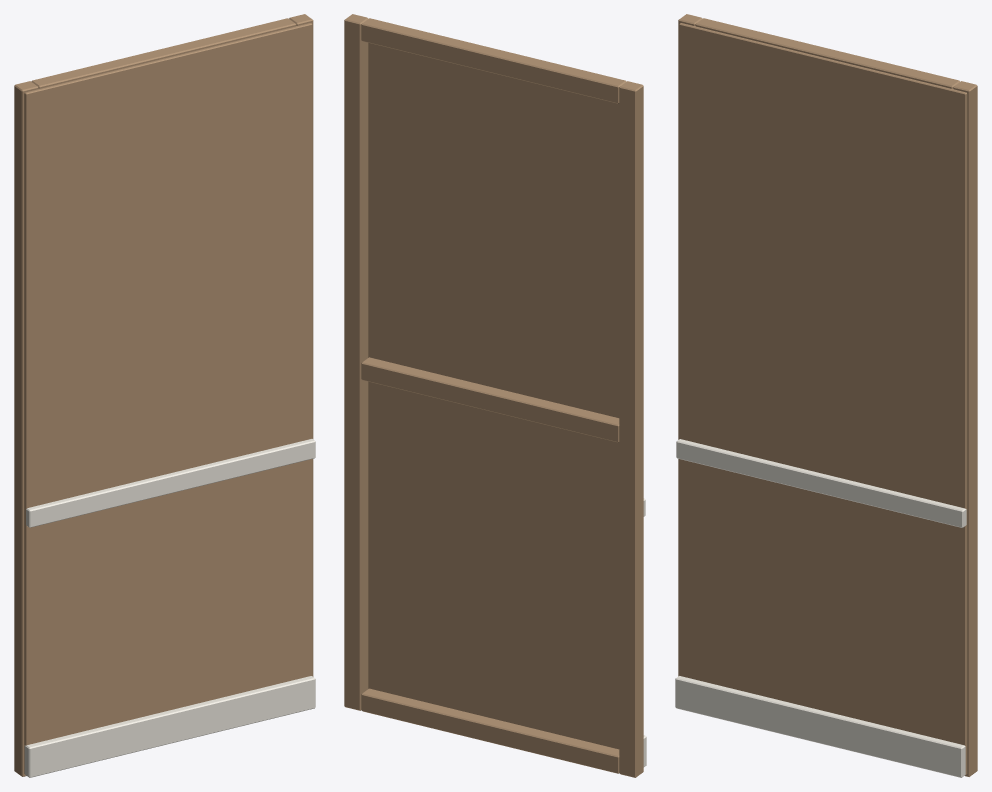
The model's file is 35486_Set_Flat__TV_Studio_and_Broadcast_Gallery_.glb.
3 views of the same model, side by side, from view 1: azimuth 30°, elevation 25°; view 2: azimuth 150°, elevation 25°; view 3: azimuth 330°, elevation 25° (orthographic).
Parts seen in each view (by area): view 1: set-flat; view 2: set-flat; view 3: set-flat.
Boxes of the visible parts, box(x1,y1,x2,y2) form: set-flat: box(14, 14, 315, 777); set-flat: box(344, 14, 646, 777); set-flat: box(675, 14, 977, 777).
Bounding box in the file's own units: 1.2 × 2.7 × 0.0959.
